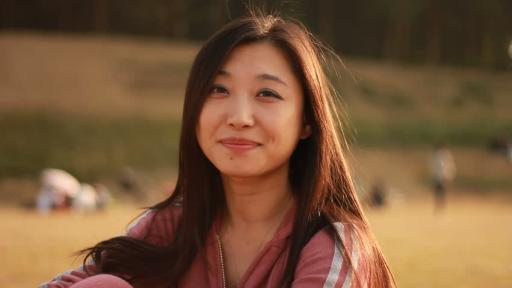left_eye: (256, 90, 285, 102)
left_lip_corner: (258, 143, 269, 151)
right_eye: (210, 86, 234, 98)
right_lip_corner: (215, 139, 225, 146)
